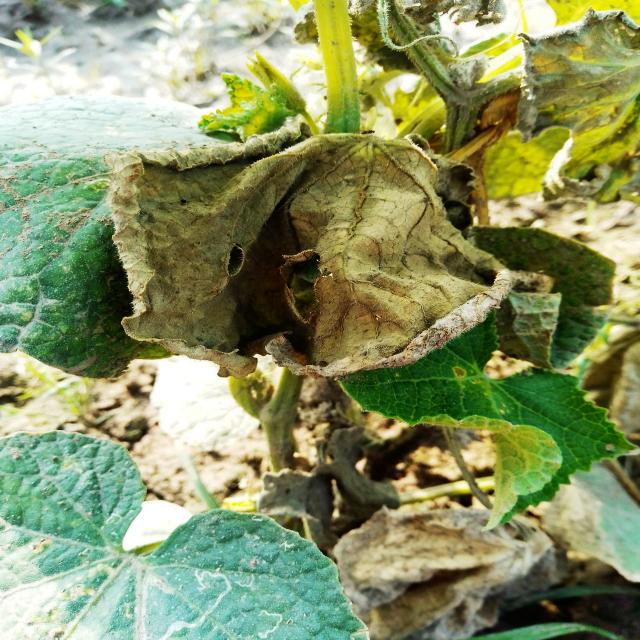Bacterial-Wilt: (100, 123, 516, 383), (515, 6, 640, 207)
